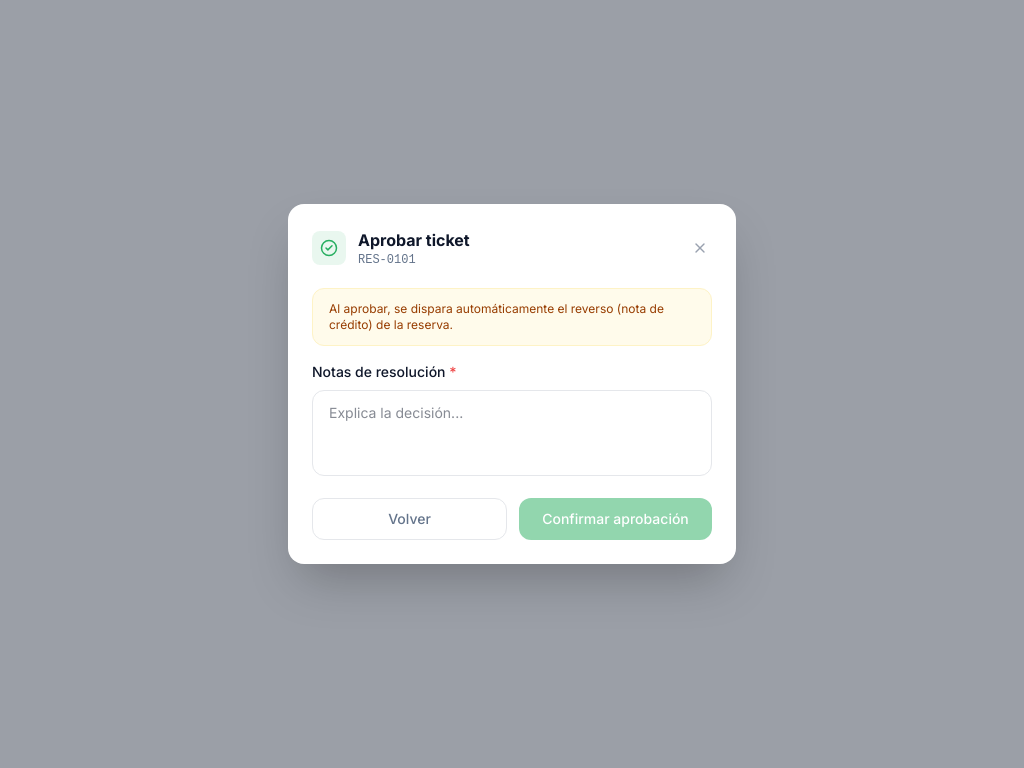
Test: ResolverTicketDialog › avisa cuando las notas son demasiado cortas
This screenshot has width=1024, height=768.
Type "no" into the text box.
click(512, 433); type("no")  # box x1=312 y1=390 x2=712 y2=476
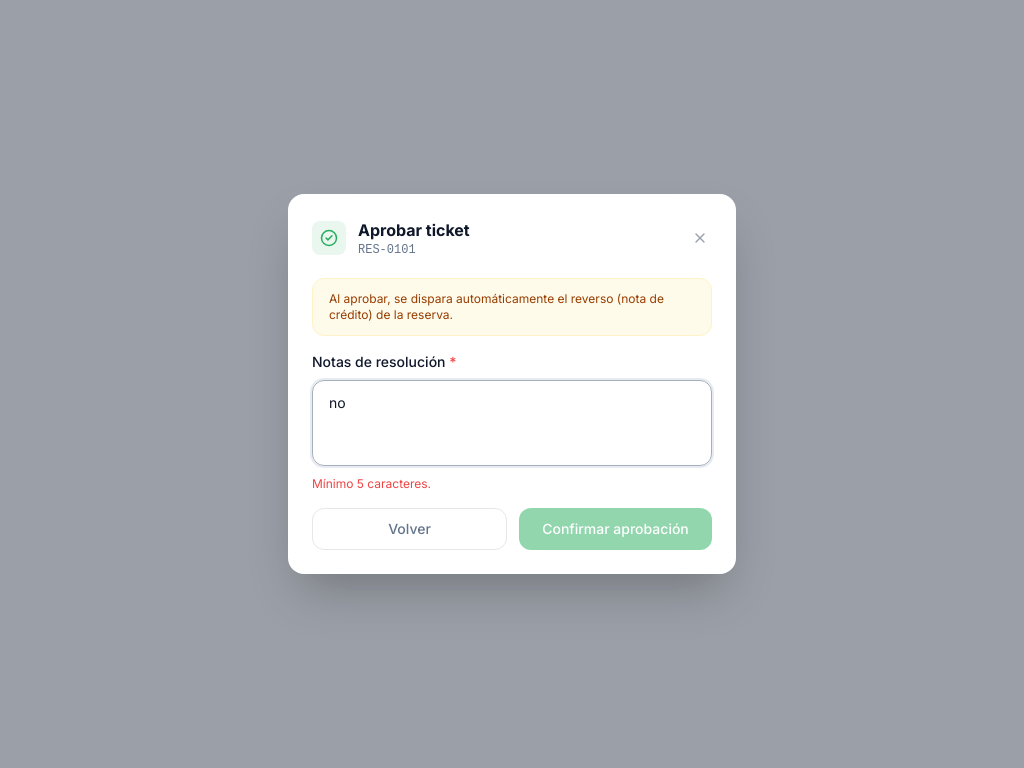
expect the button "Confirmar aprobación" is disabled: met, box x1=519 y1=508 x2=712 y2=550
expect the text "Mínimo 5 caracteres." is shown: met, box x1=312 y1=476 x2=431 y2=491
